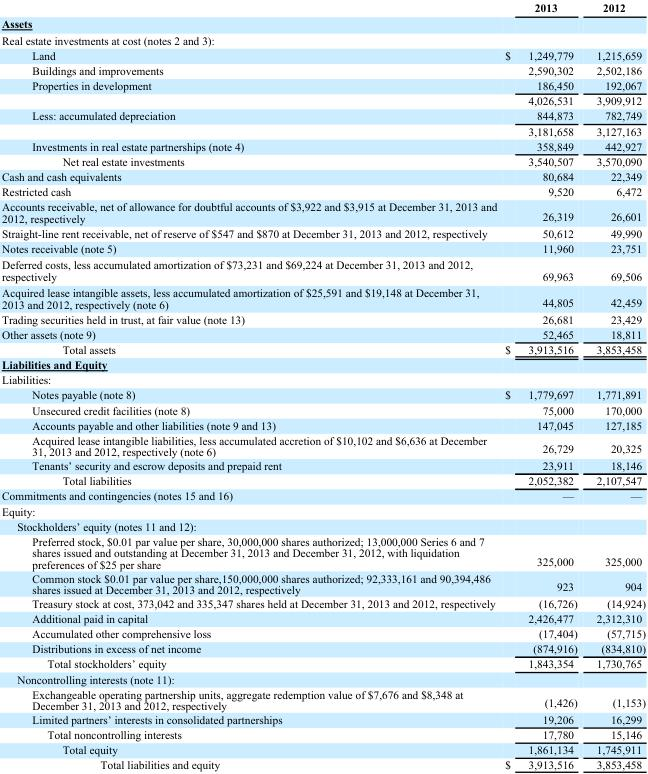table: (1, 0, 644, 770)
table column: (1, 0, 500, 770), (500, 0, 586, 770), (586, 0, 644, 770)
table column header: (1, 0, 644, 15)
table projected row header: (1, 15, 644, 31), (1, 31, 644, 47), (1, 371, 644, 387), (1, 356, 644, 371), (1, 503, 644, 518), (1, 518, 644, 533), (1, 671, 644, 686)
table row: (1, 533, 644, 570), (1, 256, 644, 284), (1, 198, 644, 225), (1, 284, 644, 311), (1, 432, 644, 458), (1, 686, 644, 712), (1, 570, 644, 595), (1, 15, 644, 31), (1, 31, 644, 47), (1, 107, 644, 123), (1, 240, 644, 256), (1, 371, 644, 387), (1, 472, 644, 488), (1, 655, 644, 671), (1, 0, 644, 15), (1, 47, 644, 62), (1, 62, 644, 77), (1, 77, 644, 92), (1, 92, 644, 107), (1, 123, 644, 138), (1, 138, 644, 153), (1, 153, 644, 168), (1, 168, 644, 183), (1, 183, 644, 198), (1, 225, 644, 240), (1, 311, 644, 326), (1, 326, 644, 341), (1, 341, 644, 356), (1, 356, 644, 371), (1, 387, 644, 402), (1, 402, 644, 417), (1, 417, 644, 432), (1, 488, 644, 503), (1, 503, 644, 518), (1, 518, 644, 533), (1, 595, 644, 610), (1, 610, 644, 625), (1, 625, 644, 640), (1, 640, 644, 655), (1, 671, 644, 686), (1, 726, 644, 741), (1, 741, 644, 756), (1, 458, 644, 472), (1, 712, 644, 726), (1, 756, 644, 770)
